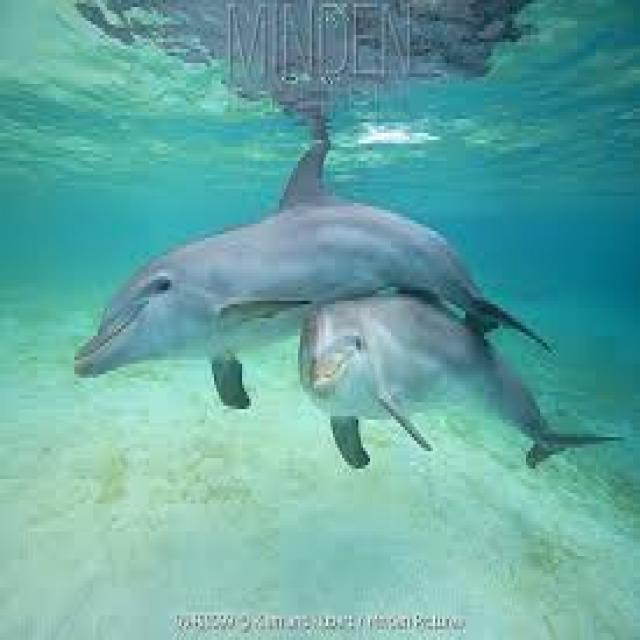dolphin: (65, 158, 554, 452), (274, 276, 634, 539)
